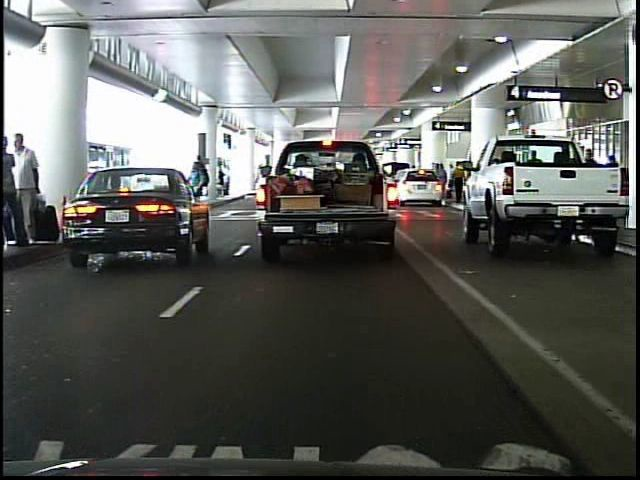person: (10, 130, 41, 250), (182, 153, 214, 224)
